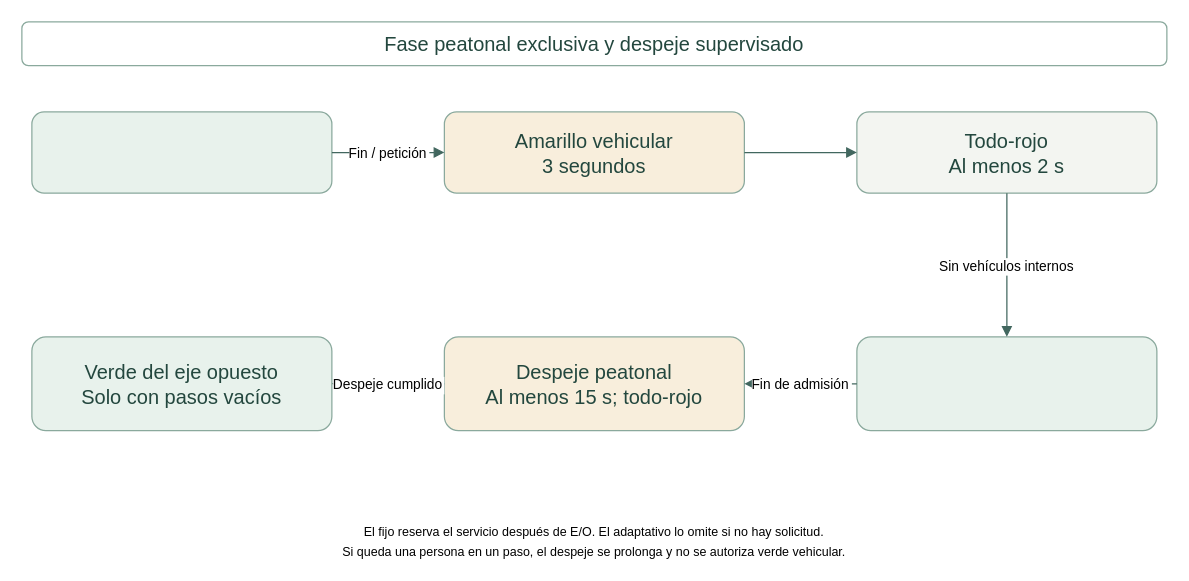
This 1189x581 diagram has some shape labels left out. Each missing label, with the centre of its shape:
Admisión peatonal 10 s; vehículos en rojo: point (1006, 383)
Verde vehicular Respetar mínimo: point (181, 152)
